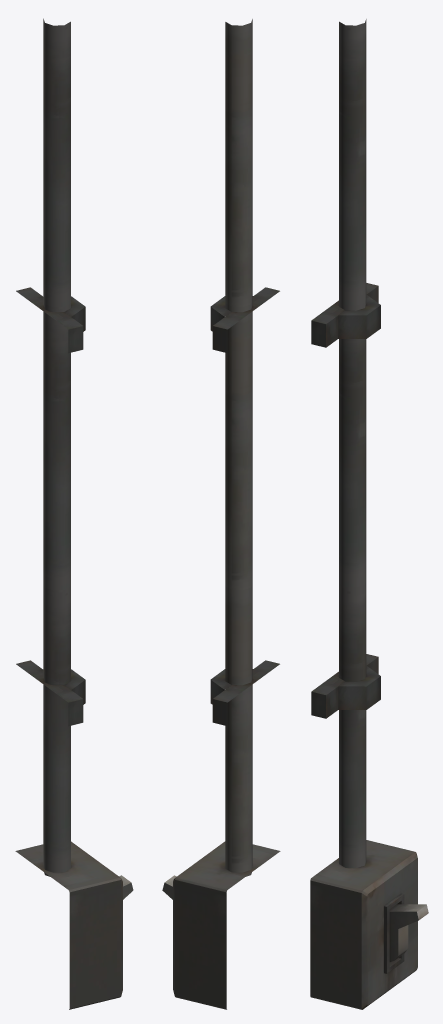
The picture shows the model from 3 angles, left to right: view 1: azimuth 30°, elevation 25°; view 2: azimuth 150°, elevation 25°; view 3: azimuth 330°, elevation 25°; orthographic projection.
Parts seen in each view (by area): view 1: body0_model0_lod0_mesh0; view 2: body0_model0_lod0_mesh0; view 3: body0_model0_lod0_mesh0.
Boxes of the visible parts, bbox=[...] form: body0_model0_lod0_mesh0: bbox=[15, 18, 133, 1009]; body0_model0_lod0_mesh0: bbox=[162, 19, 280, 1009]; body0_model0_lod0_mesh0: bbox=[310, 19, 428, 1009].
Size of the model in its own units: 8.52 by 90.84 by 9.38.
Materials: 1 (1 with a texture image).
